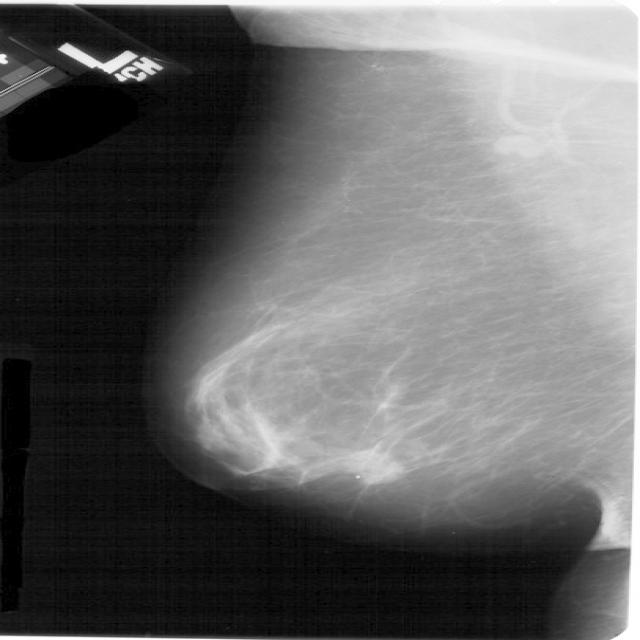tumour: (341, 448, 403, 484)
